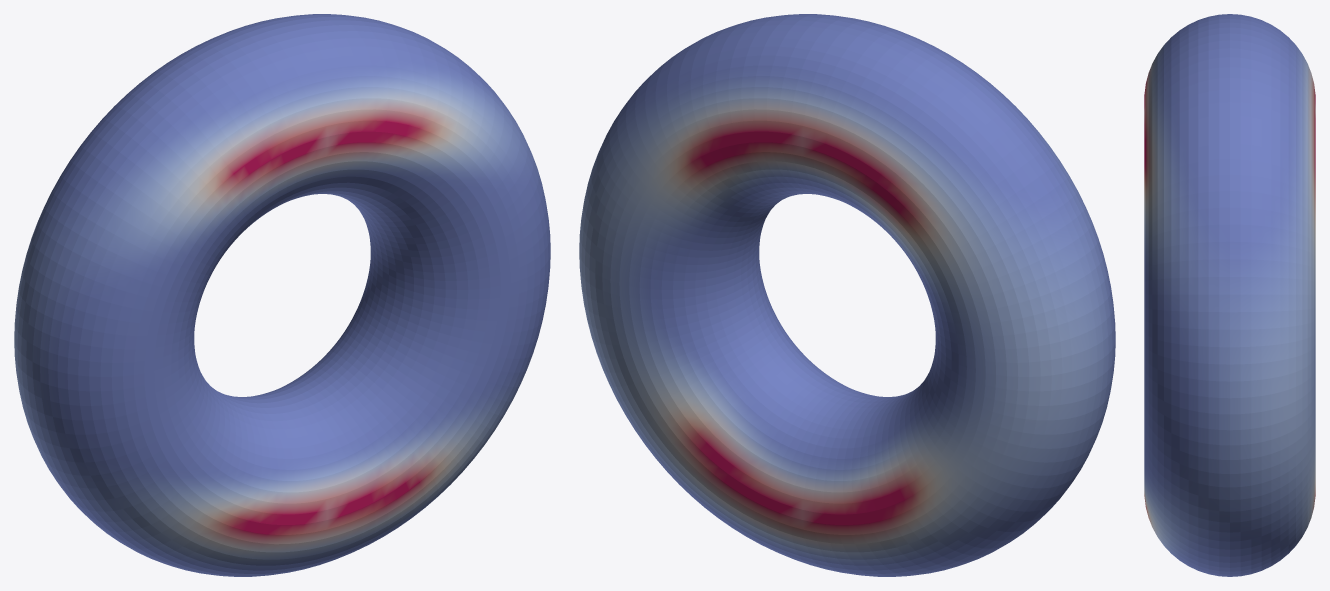
3 renders of one model, left to right at view 1: azimuth 30°, elevation 25°; view 2: azimuth 150°, elevation 25°; view 3: azimuth 270°, elevation 25°, orthographic. The views are drawn at different scales.
Visible parts, largest first — view 1: world; view 2: world; view 3: world.
Boxes of the visible parts, x1=… form: world: x1=14, y1=14, x2=550, y2=576; world: x1=579, y1=14, x2=1115, y2=576; world: x1=1144, y1=14, x2=1315, y2=576.
Size of the model in its own units: 15.33 by 15.33 by 4.66.
